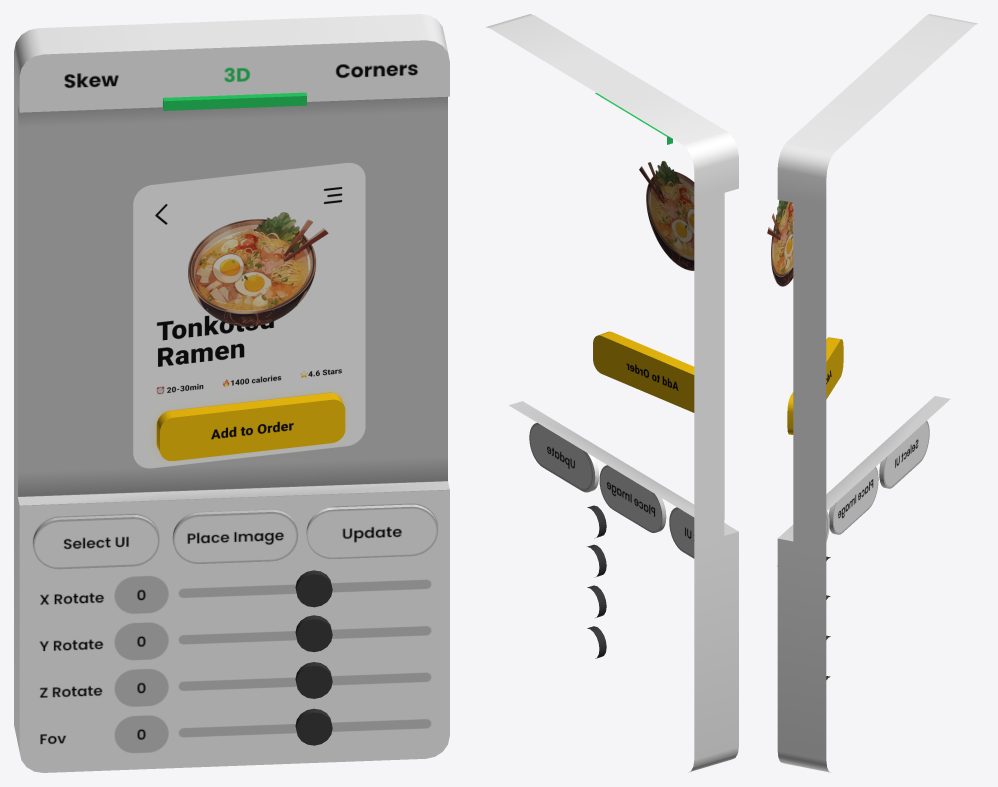
The model's file is PToolkit.gltf.
The picture shows the model from 3 angles, left to right: view 1: azimuth 30°, elevation 25°; view 2: azimuth 150°, elevation 25°; view 3: azimuth 270°, elevation 25°; orthographic projection. The views are drawn at different scales.
Parts seen in each view (by area): view 1: ptoolkit; view 2: ptoolkit; view 3: ptoolkit.
Boxes of the visible parts, box(x1,y1,x2,y2) form: ptoolkit: box(14, 14, 449, 772); ptoolkit: box(486, 14, 738, 772); ptoolkit: box(767, 14, 977, 772).
Size of the model in its own units: 1.05 by 2 by 0.6337.
Materials: 4 (3 with a texture image).
